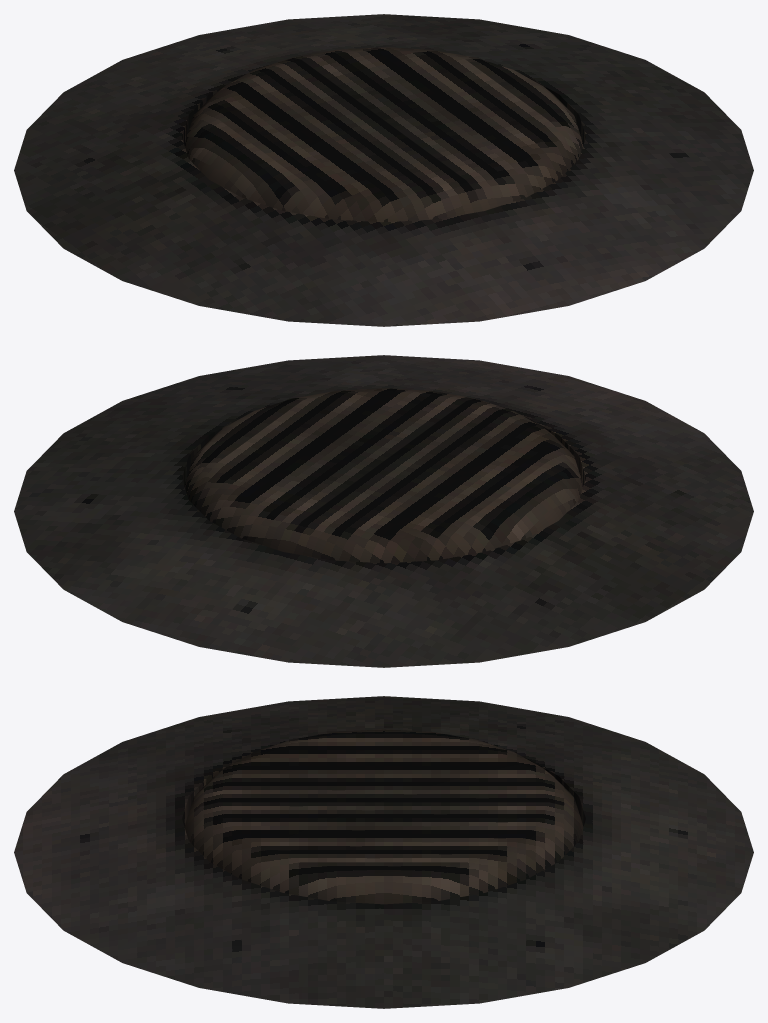
The model's file is drain_cover_3.glb.
3 views of the same model, one above another, from view 1: azimuth 30°, elevation 25°; view 2: azimuth 150°, elevation 25°; view 3: azimuth 270°, elevation 25° (orthographic).
Parts seen in each view (by area): view 1: drain_cover_3; view 2: drain_cover_3; view 3: drain_cover_3.
Part boxes in pixels (x1,y1,x2,y2): drain_cover_3: (14,14,753,326); drain_cover_3: (14,355,753,667); drain_cover_3: (14,696,753,1008).
Size of the model in its own units: 0.4 by 0.03 by 0.4.
1 material, 1 textured.
